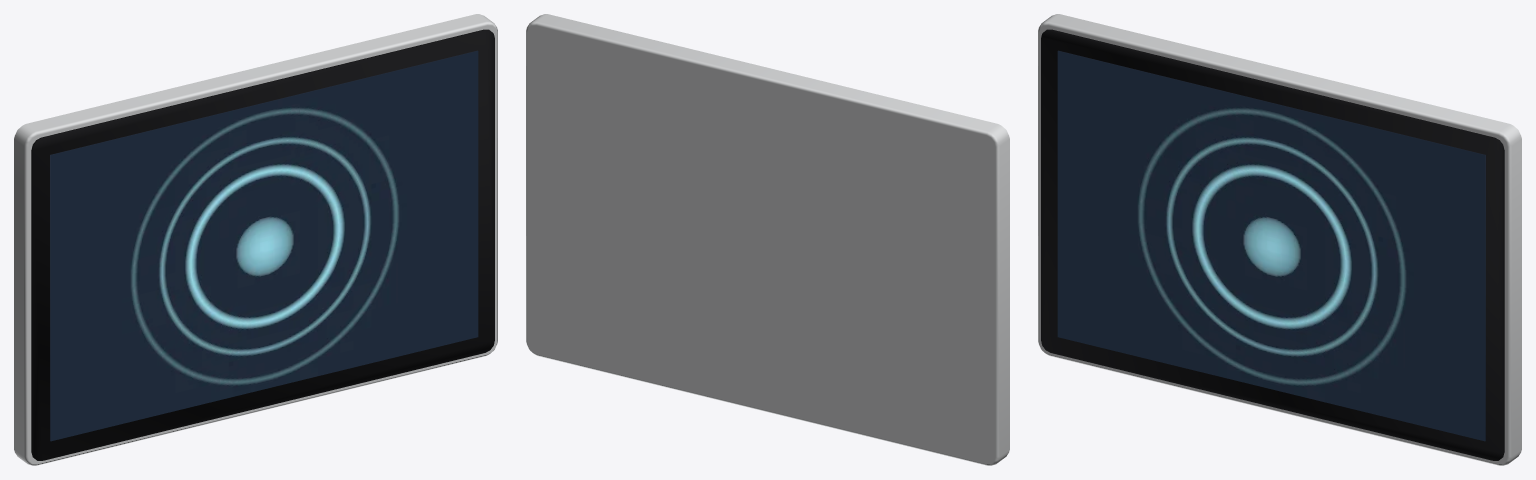
File: ix_control_panel.gltf
The picture shows the model from 3 angles, left to right: view 1: azimuth 30°, elevation 25°; view 2: azimuth 150°, elevation 25°; view 3: azimuth 330°, elevation 25°; orthographic projection.
Parts seen in each view (by area): view 1: IX_ControlPanel_Call, IX_ControlPanel_Glass, IX_ControlPanel_Frame, IX_ControlPanel_Screen; view 2: IX_ControlPanel_Frame; view 3: IX_ControlPanel_Call, IX_ControlPanel_Glass, IX_ControlPanel_Frame, IX_ControlPanel_Screen.
Boxes of the visible parts, box(x1,y1,x2,y2) form: IX_ControlPanel_Call: box(50, 51, 478, 441); IX_ControlPanel_Glass: box(31, 29, 494, 460); IX_ControlPanel_Frame: box(14, 14, 497, 465); IX_ControlPanel_Screen: box(50, 50, 477, 440); IX_ControlPanel_Frame: box(526, 14, 1009, 465); IX_ControlPanel_Call: box(1057, 51, 1485, 441); IX_ControlPanel_Glass: box(1041, 29, 1504, 460); IX_ControlPanel_Frame: box(1038, 14, 1521, 465); IX_ControlPanel_Screen: box(1058, 50, 1485, 440).
Size of the model in its own units: 0.246 by 0.166 by 0.0136.
4 materials, 2 textured.
